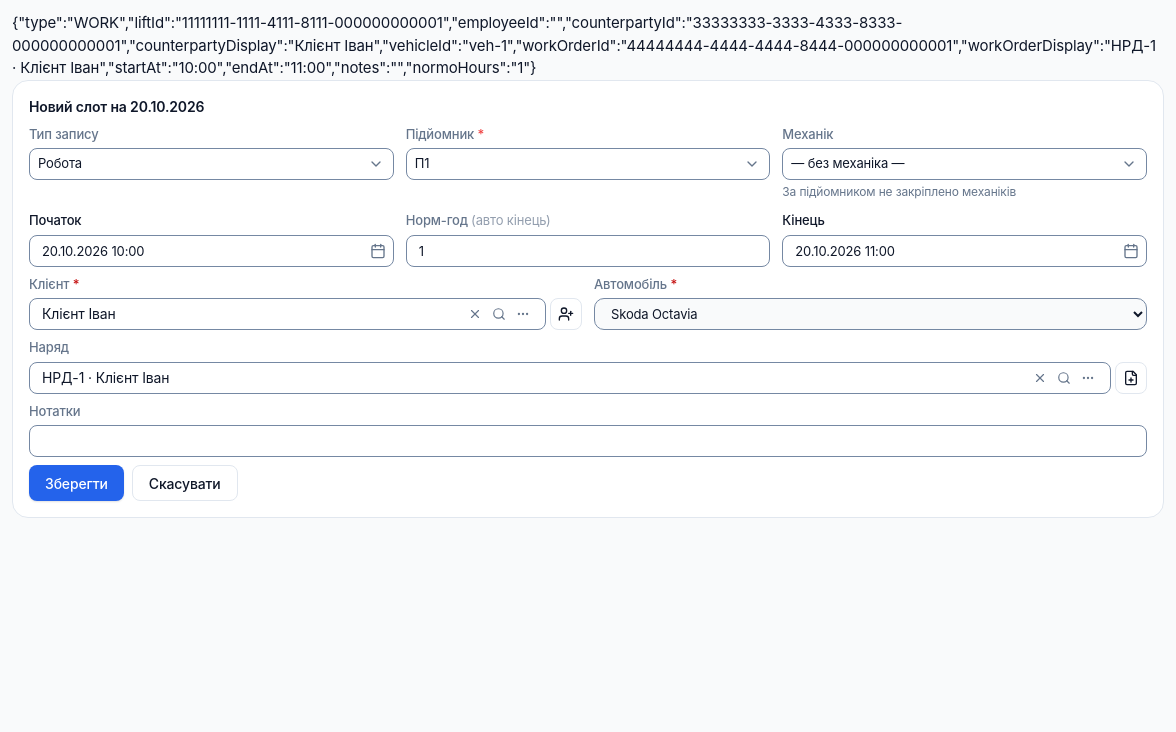
Test case: CalendarSlotModal — тип запису (BR-CAL-003) › «Перерва» ховає клієнта, автомобіль і наряд і скидає обрані
Select "Перерва" in the dropdown labelled "Тип запису" at [211, 164], box [29,148,394,180]
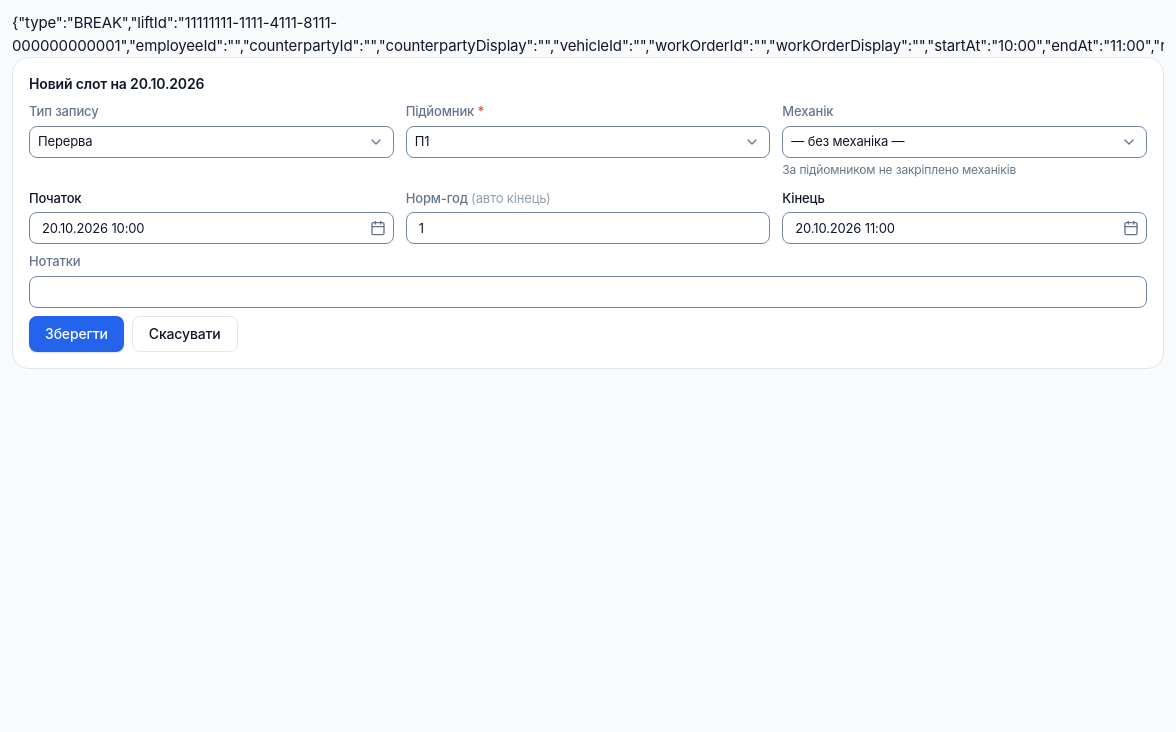
Result: the text "Клієнт" is gone
Result: the text "Автомобіль" is gone
Result: the text "Наряд" is gone
